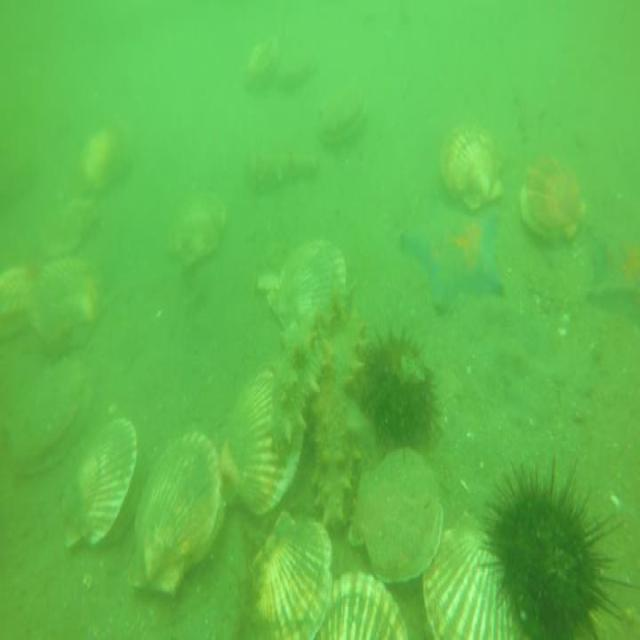echinus: (479, 441, 635, 640), (349, 316, 443, 455)
holothurian: (266, 308, 328, 460), (308, 344, 354, 532), (245, 136, 319, 196)
scallop: (124, 427, 222, 597), (419, 504, 529, 640), (221, 361, 307, 518), (352, 442, 447, 584), (244, 507, 336, 640), (62, 412, 140, 561), (9, 353, 93, 485), (266, 232, 353, 334), (435, 112, 513, 218), (298, 568, 412, 638), (518, 146, 588, 254), (25, 254, 103, 344), (164, 185, 230, 275), (314, 76, 372, 150), (75, 120, 132, 194), (238, 22, 282, 97), (270, 39, 324, 95), (0, 260, 34, 336)
starfish: (396, 192, 510, 318), (586, 207, 640, 337)
